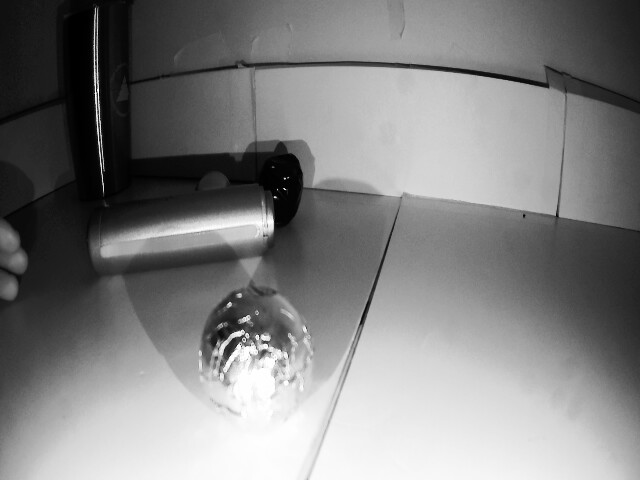black: (185, 284, 311, 422)
silver: (252, 153, 320, 213)
